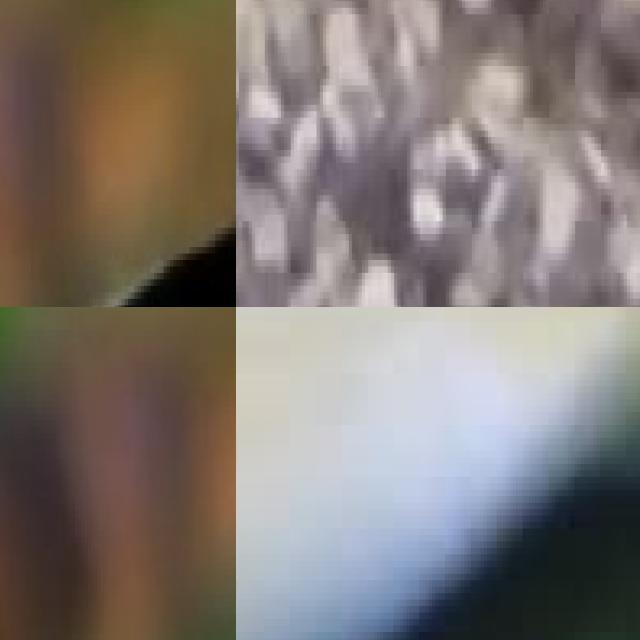fish: (0, 307, 236, 640), (0, 0, 236, 307)
